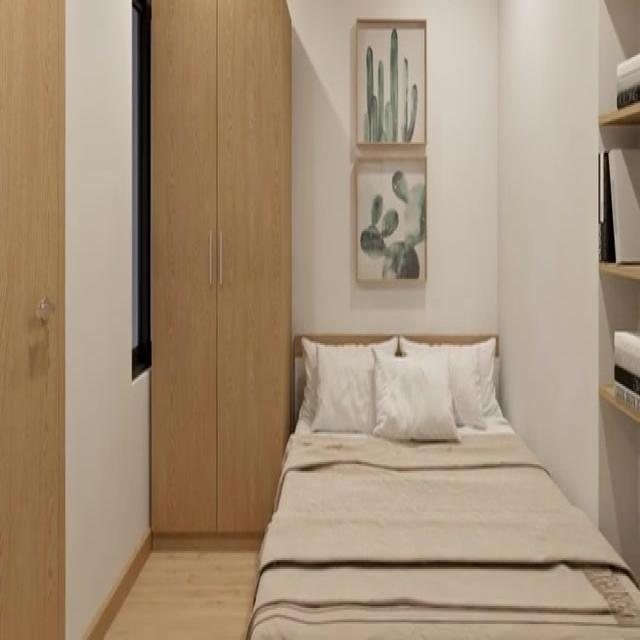obstacle: (244, 331, 639, 638), (149, 0, 291, 539)
